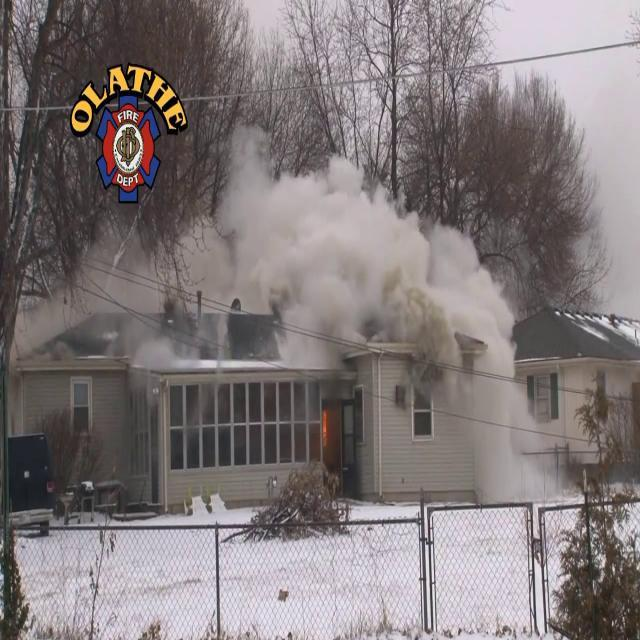Smoke: (188, 128, 496, 339)
